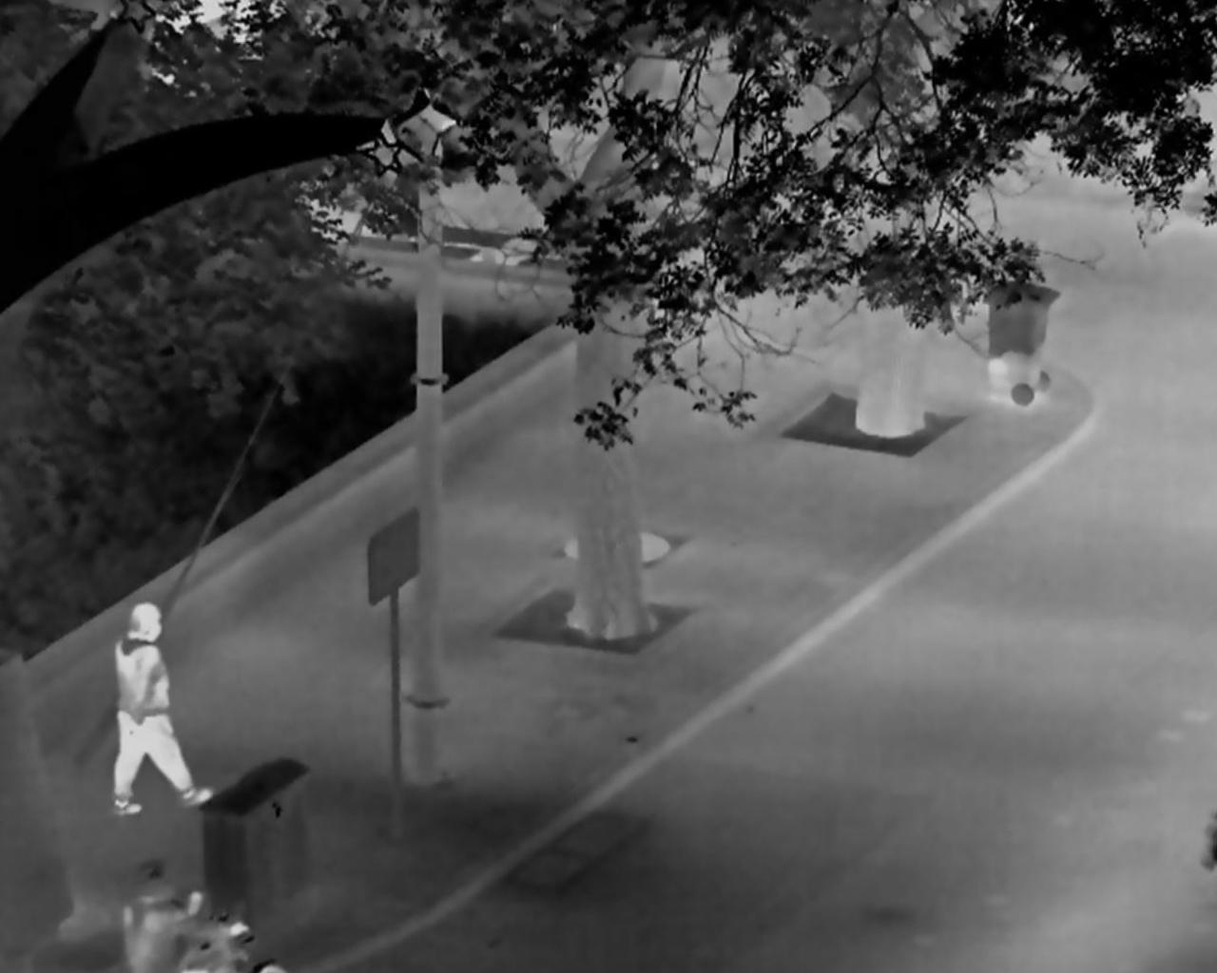person: (110, 600, 215, 814)
